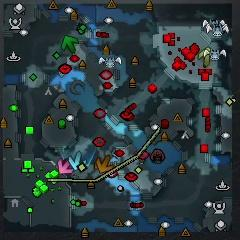x1: (57, 159, 73, 175)
x2: (198, 47, 215, 66)
x3: (69, 152, 86, 171)
x4: (62, 35, 78, 53)
x5: (96, 154, 114, 173)
